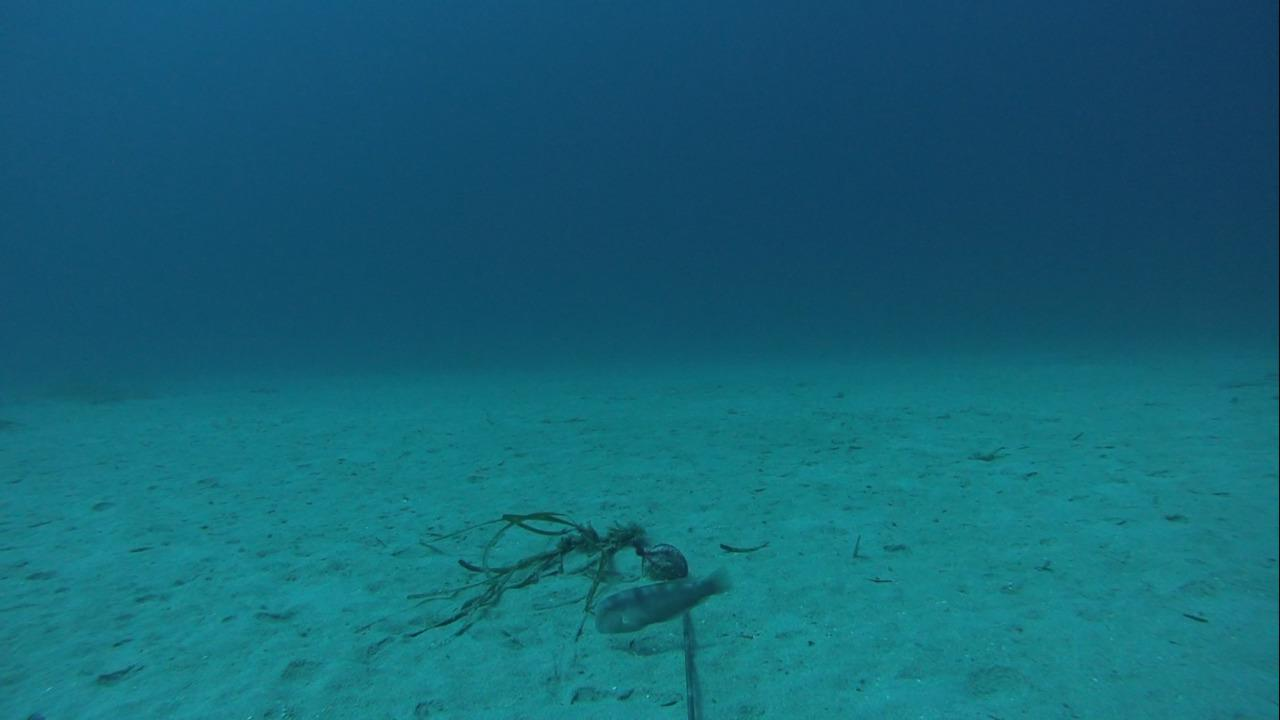raor: (588, 564, 734, 638)
